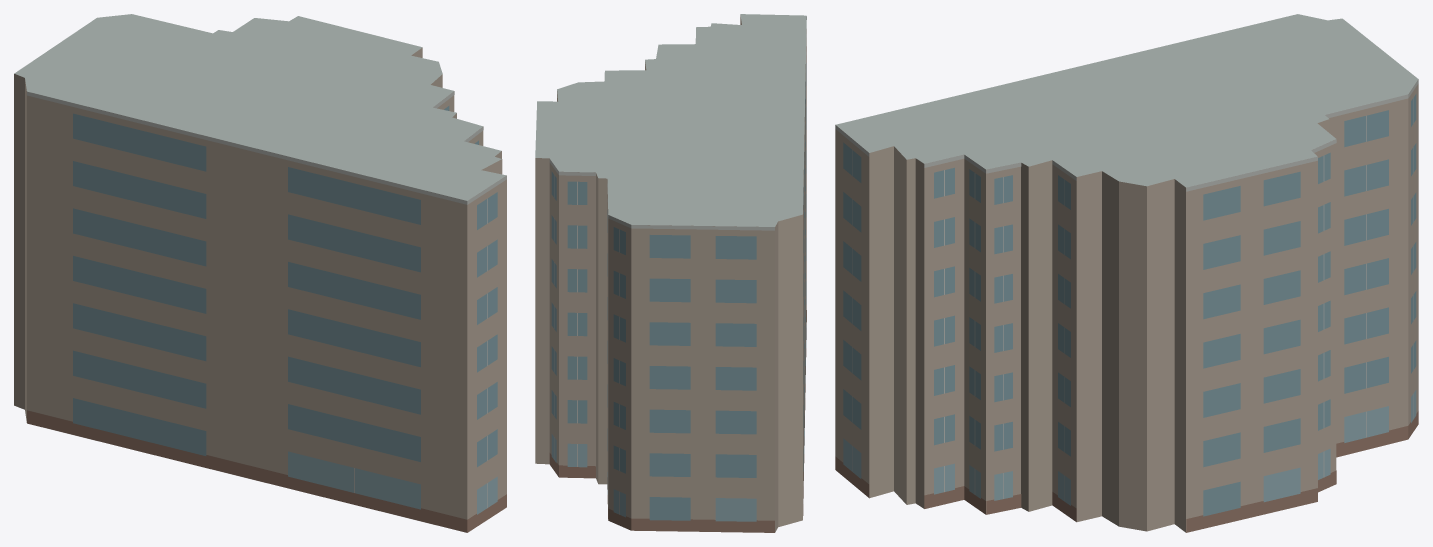
Rendered from survey-upis-32828179.glb.
The picture shows the model from 3 angles, left to right: view 1: azimuth 30°, elevation 25°; view 2: azimuth 150°, elevation 25°; view 3: azimuth 270°, elevation 25°; orthographic projection. The views are drawn at different scales.
Parts seen in each view (by area): view 1: survey-upis-32828179.tmp; view 2: survey-upis-32828179.tmp; view 3: survey-upis-32828179.tmp.
Boxes of the visible parts, box(x1,y1,x2,y2) form: survey-upis-32828179.tmp: box(14, 14, 506, 532); survey-upis-32828179.tmp: box(535, 14, 806, 532); survey-upis-32828179.tmp: box(835, 14, 1418, 532).
Bounding box in the file's own units: 22.13 × 20.5 × 31.39.
